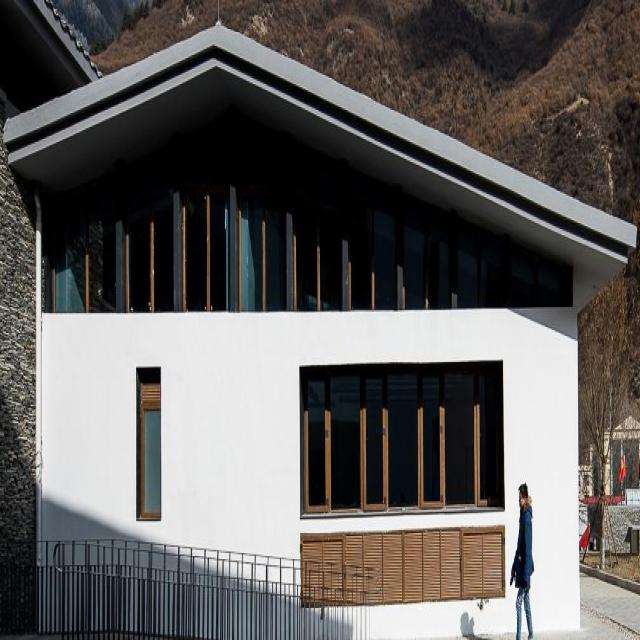railing: (38, 535, 365, 640)
window: (42, 107, 573, 306), (300, 365, 503, 507), (139, 372, 161, 511)
